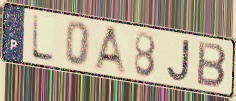0: (64, 20, 92, 69)
8: (132, 30, 157, 79)
A: (92, 24, 130, 78)
B: (196, 39, 229, 90)
J: (166, 38, 191, 83)
L: (30, 13, 56, 64)
